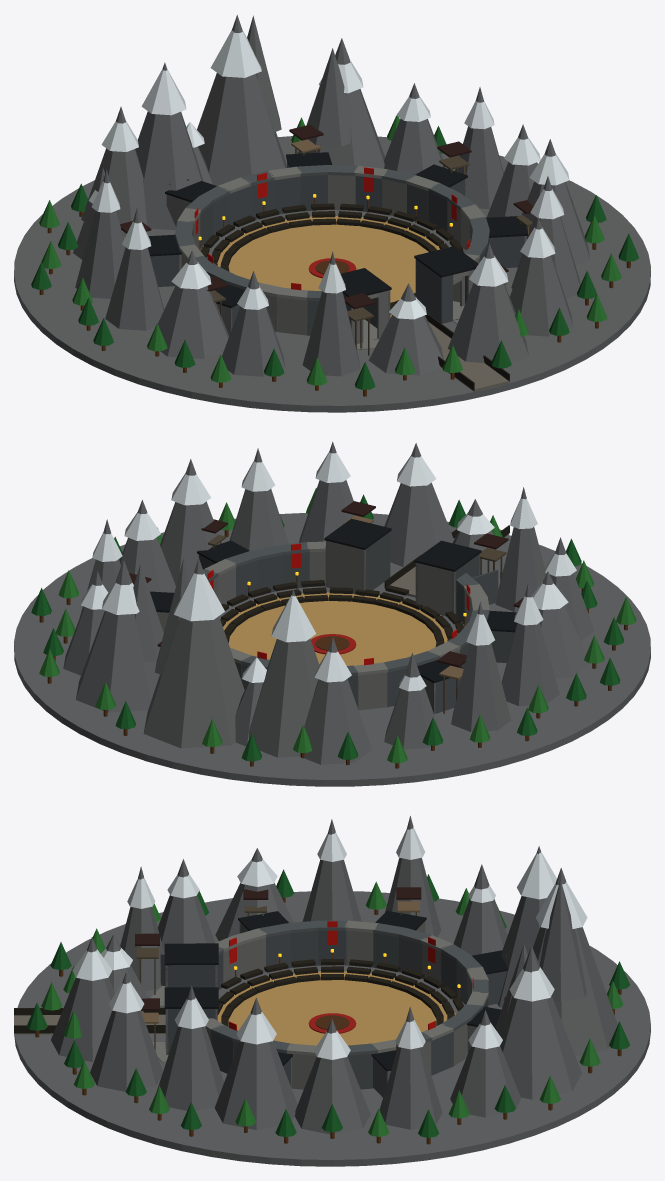
Rendered from Arena.glb.
The picture shows the model from 3 angles, top to bottom: view 1: azimuth 30°, elevation 25°; view 2: azimuth 150°, elevation 25°; view 3: azimuth 270°, elevation 25°; orthographic projection.
Parts seen in each view (by area): view 1: IslandBase, ArenaWall1, BridgeRail-1, PeakSnow0, ArenaWall0, ArenaSand, Tree0, Tree1, Banner0, TreeTrunk0; view 2: IslandBase, PeakSnow0, BridgeRail-1, ArenaWall1, ArenaWall0, ArenaSand, Tree1, Tree0, Banner0, TreeTrunk0; view 3: IslandBase, ArenaWall1, PeakSnow0, BridgeRail-1, ArenaSand, ArenaWall0, Tree0, Tree1, Banner0, TreeTrunk0.
Boxes of the visible parts, <box> form: IslandBase: <box>14,15,650,412</box>; ArenaWall1: <box>150,148,532,355</box>; BridgeRail-1: <box>120,124,533,390</box>; PeakSnow0: <box>88,30,569,319</box>; ArenaWall0: <box>123,139,528,391</box>; ArenaSand: <box>211,216,440,317</box>; Tree0: <box>31,126,638,389</box>; Tree1: <box>39,115,621,385</box>; Banner0: <box>194,167,470,290</box>; TreeTrunk0: <box>39,211,630,396</box>; IslandBase: <box>14,441,650,786</box>; PeakSnow0: <box>81,452,576,691</box>; BridgeRail-1: <box>129,501,523,683</box>; ArenaWall1: <box>199,532,514,713</box>; ArenaWall0: <box>156,515,509,714</box>; ArenaSand: <box>223,592,453,665</box>; Tree1: <box>39,488,636,763</box>; Tree0: <box>31,494,624,761</box>; Banner0: <box>207,543,470,665</box>; TreeTrunk0: <box>39,530,627,768</box>; IslandBase: <box>14,816,650,1166</box>; ArenaWall1: <box>136,905,507,1097</box>; PeakSnow0: <box>72,827,587,1059</box>; BridgeRail-1: <box>14,887,508,1071</box>; ArenaSand: <box>217,971,455,1045</box>; ArenaWall0: <box>14,901,497,1089</box>; Tree0: <box>26,869,629,1137</box>; Tree1: <box>41,881,623,1136</box>; Banner0: <box>229,921,473,1033</box>; TreeTrunk0: <box>35,897,621,1144</box>.
Size of the model in its own units: 86 by 26.1 by 86.01.
